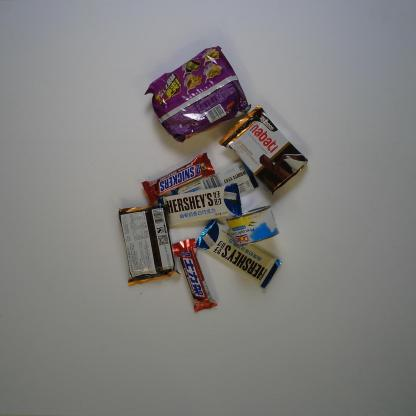Canned Food: (225, 204, 282, 248)
Chocolate: (194, 216, 282, 291), (139, 151, 217, 208), (171, 158, 260, 204), (158, 184, 242, 228), (172, 236, 218, 315)
Dessert: (216, 102, 309, 200), (117, 203, 183, 288)
Instant Noodles: (142, 43, 252, 145)
